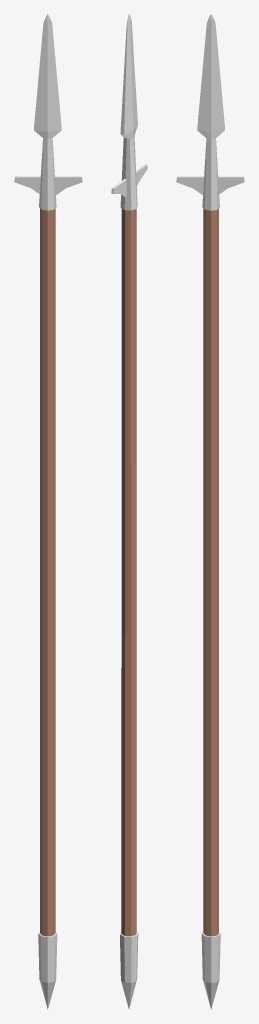
Rendered from ankers-low-poly-medieval-weapons--spear.glb.
The picture shows the model from 3 angles, left to right: view 1: azimuth 90°, elevation 25°; view 2: azimuth 150°, elevation 25°; view 3: azimuth 270°, elevation 25°; orthographic projection.
Visible parts, largest first — view 1: Spear; view 2: Spear; view 3: Spear.
Part boxes in pixels (x1,y1,x2,y2): Spear: (14,14,82,1009); Spear: (111,14,147,1009); Spear: (176,14,244,1009).
Bounding box in the file's own units: 0.0437 × 2.51 × 0.1558.
